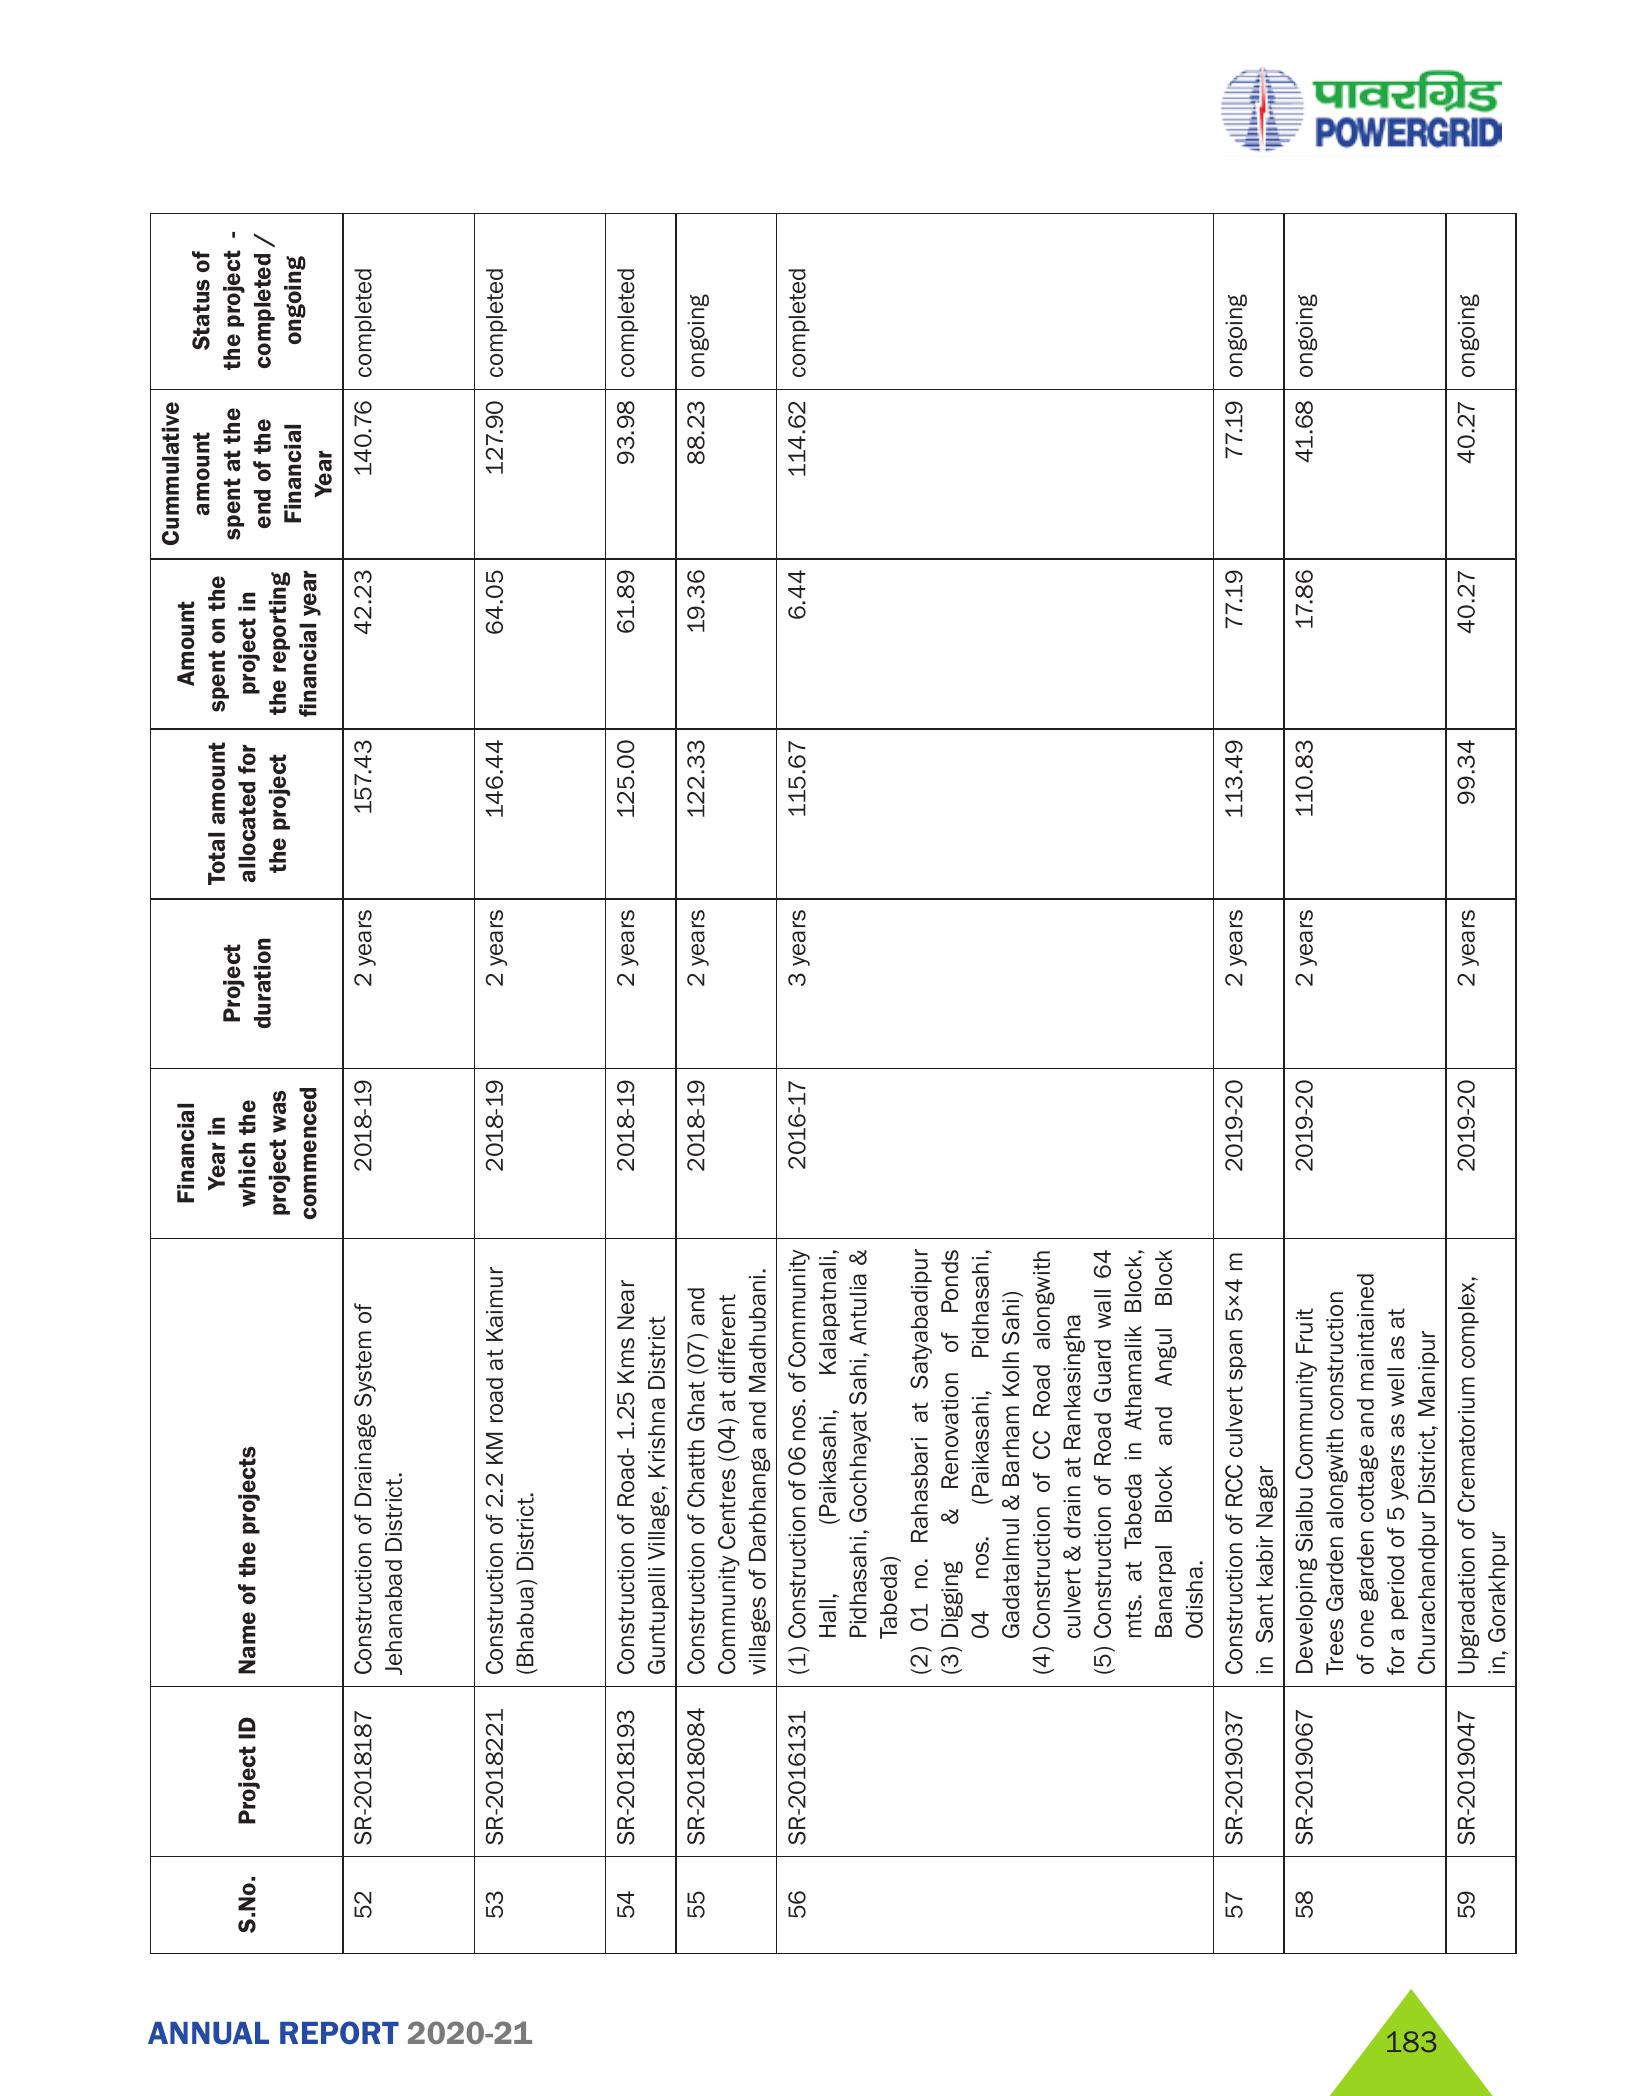Footer: (0, 1982, 1650, 2096)
Header: (0, 0, 1650, 189)
Table: (134, 213, 1528, 1962)
